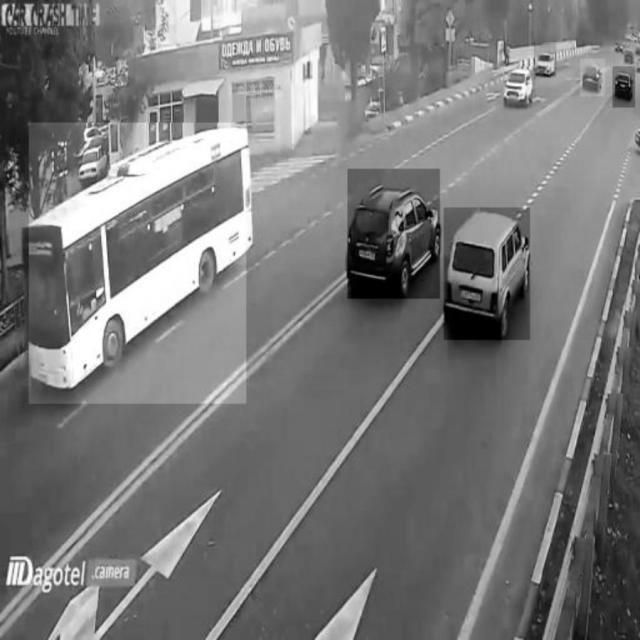vehicle: (30, 123, 247, 404), (348, 170, 440, 300), (444, 208, 530, 340), (503, 66, 535, 104), (79, 141, 107, 179), (580, 59, 605, 96), (613, 67, 635, 108), (534, 44, 556, 78)
